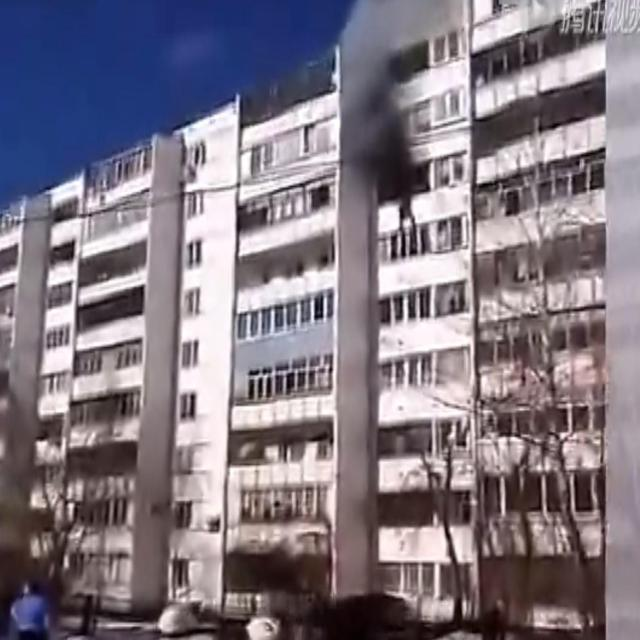smoke: (336, 1, 418, 192)
